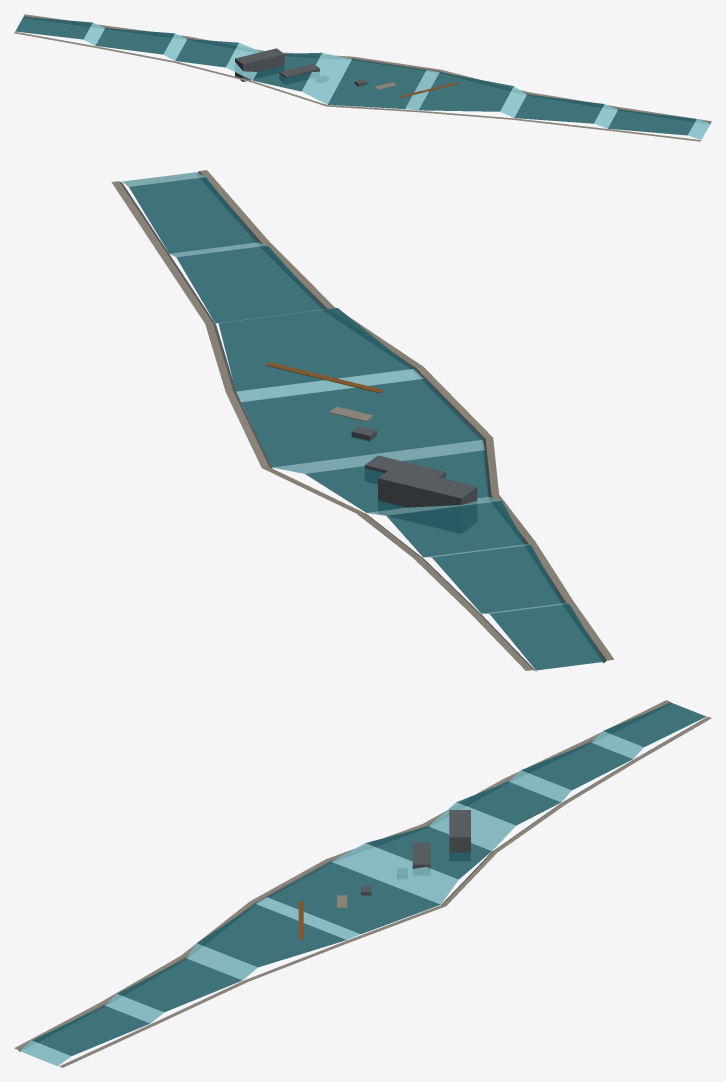
File: water_thac_da_sar_lac_duong.glb
The picture shows the model from 3 angles, top to bottom: view 1: azimuth 30°, elevation 25°; view 2: azimuth 150°, elevation 25°; view 3: azimuth 270°, elevation 25°; orthographic projection. The views are drawn at different scales.
Parts seen in each view (by area): view 1: water_terraces_water_thac_da_sar_lac_duong, waterfall_curtain_water_thac_da_sar_lac_duong, canyon_walkway_water_thac_da_sar_lac_duong, da_sar_three_tier_basalt_waterfall_cliff, da_sar_middle_cascade_stone_ledge, basalt_canyon_embankments_water_thac_da_sar_lac_duong; view 2: water_terraces_water_thac_da_sar_lac_duong, canyon_walkway_water_thac_da_sar_lac_duong, waterfall_curtain_water_thac_da_sar_lac_duong, da_sar_three_tier_basalt_waterfall_cliff, basalt_canyon_embankments_water_thac_da_sar_lac_duong; view 3: water_terraces_water_thac_da_sar_lac_duong, waterfall_curtain_water_thac_da_sar_lac_duong, canyon_walkway_water_thac_da_sar_lac_duong, da_sar_three_tier_basalt_waterfall_cliff, basalt_canyon_embankments_water_thac_da_sar_lac_duong.
Boxes of the visible parts, x1,y1,x2,y2 form: water_terraces_water_thac_da_sar_lac_duong: (15,17,696,135); waterfall_curtain_water_thac_da_sar_lac_duong: (83,22,710,139); canyon_walkway_water_thac_da_sar_lac_duong: (14,14,711,141); da_sar_three_tier_basalt_waterfall_cliff: (235,48,284,81); da_sar_middle_cascade_stone_ledge: (279,63,319,78); basalt_canyon_embankments_water_thac_da_sar_lac_duong: (23,16,710,124); water_terraces_water_thac_da_sar_lac_duong: (129,177,604,670); canyon_walkway_water_thac_da_sar_lac_duong: (111,170,614,670); waterfall_curtain_water_thac_da_sar_lac_duong: (122,172,568,613); da_sar_three_tier_basalt_waterfall_cliff: (378,466,477,507); basalt_canyon_embankments_water_thac_da_sar_lac_duong: (119,171,606,671); water_terraces_water_thac_da_sar_lac_duong: (32,702,706,1055); waterfall_curtain_water_thac_da_sar_lac_duong: (19,731,643,1066); canyon_walkway_water_thac_da_sar_lac_duong: (14,700,711,1067); da_sar_three_tier_basalt_waterfall_cliff: (449,810,470,852); basalt_canyon_embankments_water_thac_da_sar_lac_duong: (18,702,704,1051).
Bounding box in the file's own units: 615 × 51.45 × 579.
